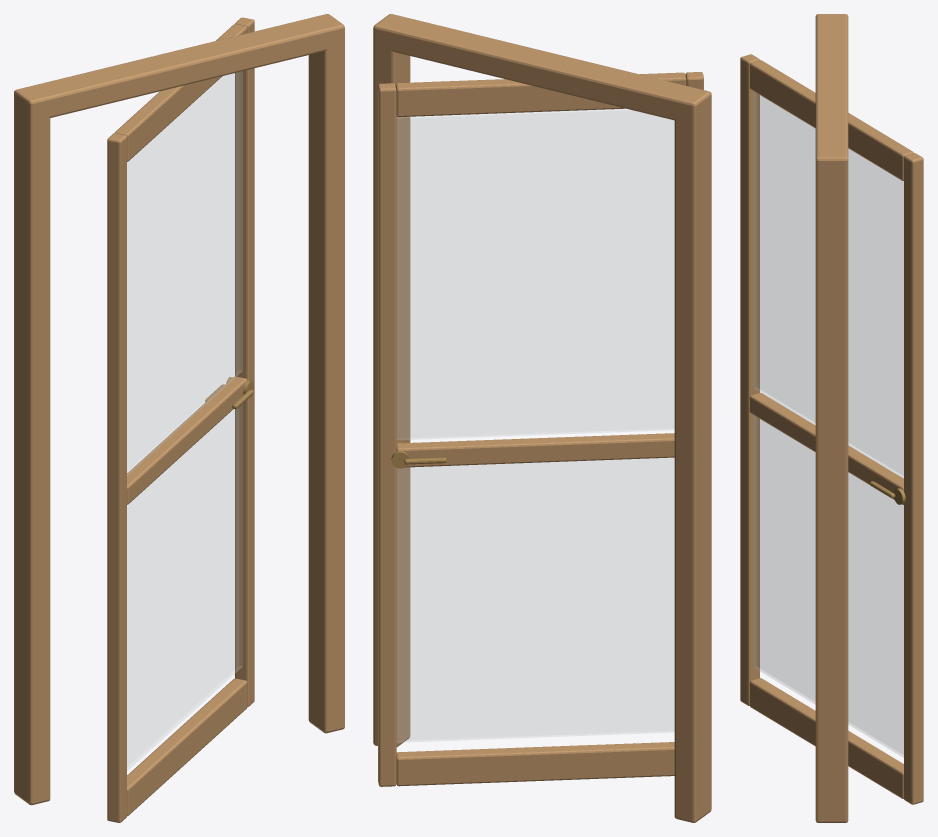
The model's file is door-balcony-open.glb.
The picture shows the model from 3 angles, left to right: view 1: azimuth 30°, elevation 25°; view 2: azimuth 150°, elevation 25°; view 3: azimuth 270°, elevation 25°; orthographic projection. The views are drawn at different scales.
Parts seen in each view (by area): view 1: leaf-glass-top, leaf-glass-bottom, jamb-hinge, jamb-latch, leaf-stile-hinge, leaf-stile-latch, head, leaf-rail-bottom, leaf-rail-mid, leaf-rail-top; view 2: leaf-glass-top, leaf-glass-bottom, jamb-hinge, jamb-latch, leaf-stile-latch, head, leaf-rail-bottom, leaf-rail-mid, leaf-rail-top; view 3: leaf-glass-top, leaf-glass-bottom, jamb-latch, leaf-stile-latch, leaf-stile-hinge, head, leaf-rail-top, leaf-rail-bottom, leaf-rail-mid.
Boxes of the visible parts, left/top/right/bottom form: leaf-glass-top: left=127, top=71, right=242, bottom=475; leaf-glass-bottom: left=127, top=404, right=242, bottom=770; jamb-hinge: left=14, top=86, right=50, bottom=805; jamb-latch: left=308, top=14, right=344, bottom=733; leaf-stile-hinge: left=107, top=133, right=126, bottom=822; leaf-stile-latch: left=235, top=17, right=254, bottom=707; head: left=14, top=14, right=344, bottom=120; leaf-rail-bottom: left=127, top=678, right=247, bottom=816; leaf-rail-mid: left=127, top=376, right=247, bottom=504; leaf-rail-top: left=115, top=24, right=247, bottom=161; leaf-glass-top: left=397, top=109, right=674, bottom=439; leaf-glass-bottom: left=397, top=458, right=674, bottom=742; jamb-hinge: left=674, top=87, right=711, bottom=822; jamb-latch: left=373, top=14, right=410, bottom=746; leaf-stile-latch: left=378, top=83, right=396, bottom=786; head: left=373, top=14, right=711, bottom=122; leaf-rail-bottom: left=396, top=742, right=674, bottom=786; leaf-rail-mid: left=396, top=433, right=674, bottom=467; leaf-rail-top: left=395, top=72, right=686, bottom=116; leaf-glass-top: left=753, top=91, right=903, bottom=478; leaf-glass-bottom: left=753, top=415, right=903, bottom=757; jamb-latch: left=815, top=150, right=848, bottom=822; leaf-stile-latch: left=904, top=153, right=923, bottom=804; leaf-stile-hinge: left=740, top=54, right=759, bottom=705; head: left=815, top=14, right=848, bottom=176; leaf-rail-top: left=749, top=60, right=913, bottom=180; leaf-rail-bottom: left=749, top=678, right=903, bottom=798; leaf-rail-mid: left=749, top=393, right=903, bottom=504.
Bounding box in the file's own units: 1.05 × 2.24 × 0.5596.
